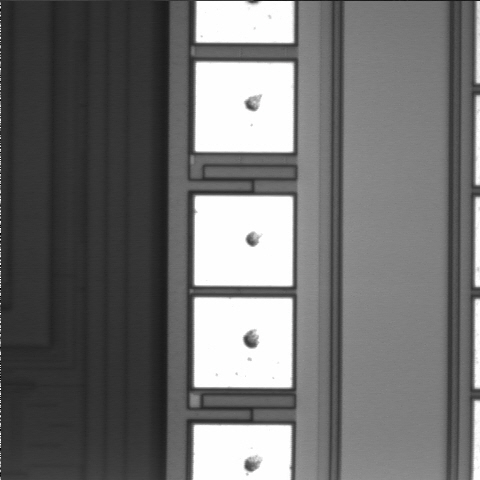pad: (194, 297, 292, 388), (195, 62, 294, 152), (194, 196, 293, 286)
